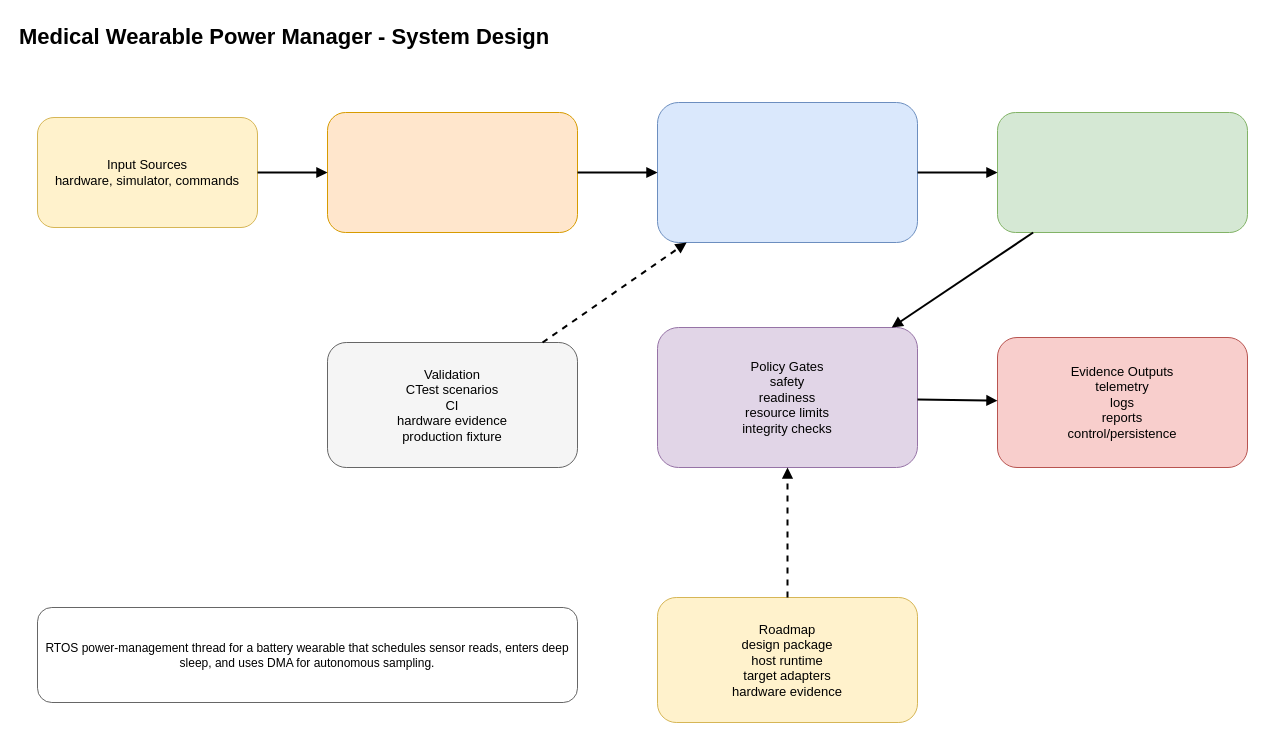
The diagram is 1265 pixels wide and 740 high, and some of its shapes have lost their labels. Here are the shapes that lost their labels. From the top down, the centre of each, then its label:
At point 452,172: "Adapter Layer bus / OS / driver / transport boundaries".
At point 787,172: "Runtime Orchestrator C++17 facade dependency injection deterministic cycle".
At point 1122,172: "Domain Model typed state derived metrics project decision".
